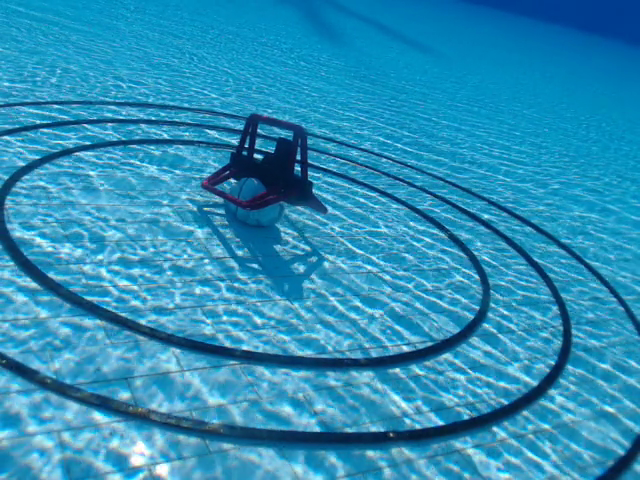submarine: (199, 112, 331, 219)
